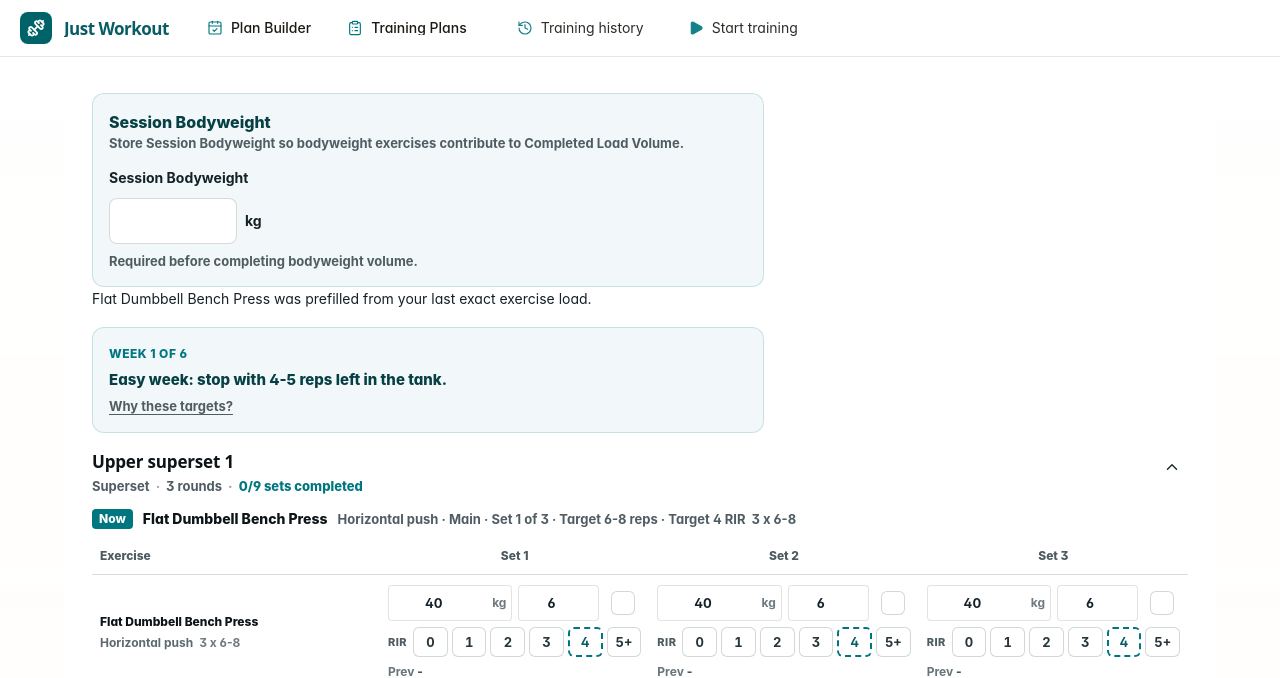
Test: TrainingPlanRoute › dismisses the exact-history prefill note after the user completes a set
Expected: the text "Flat Dumbbell Bench Press was prefilled from your last exact exercise load." is shown, [92,290,592,307]
Click the checkbox named "Mark Flat Dumbbell Bench Press set 1 done" at (623, 603), box [611,591,635,615]
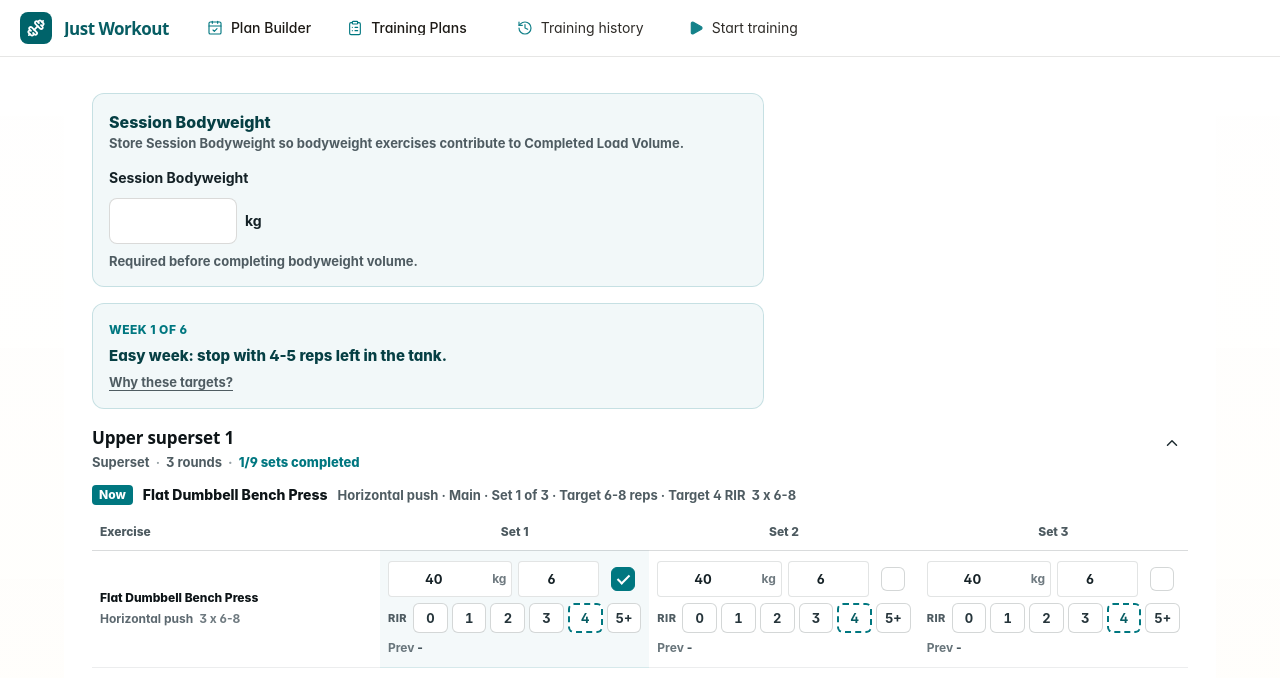
Expected: the text "Flat Dumbbell Bench Press was prefilled from your last exact exercise load." is gone
